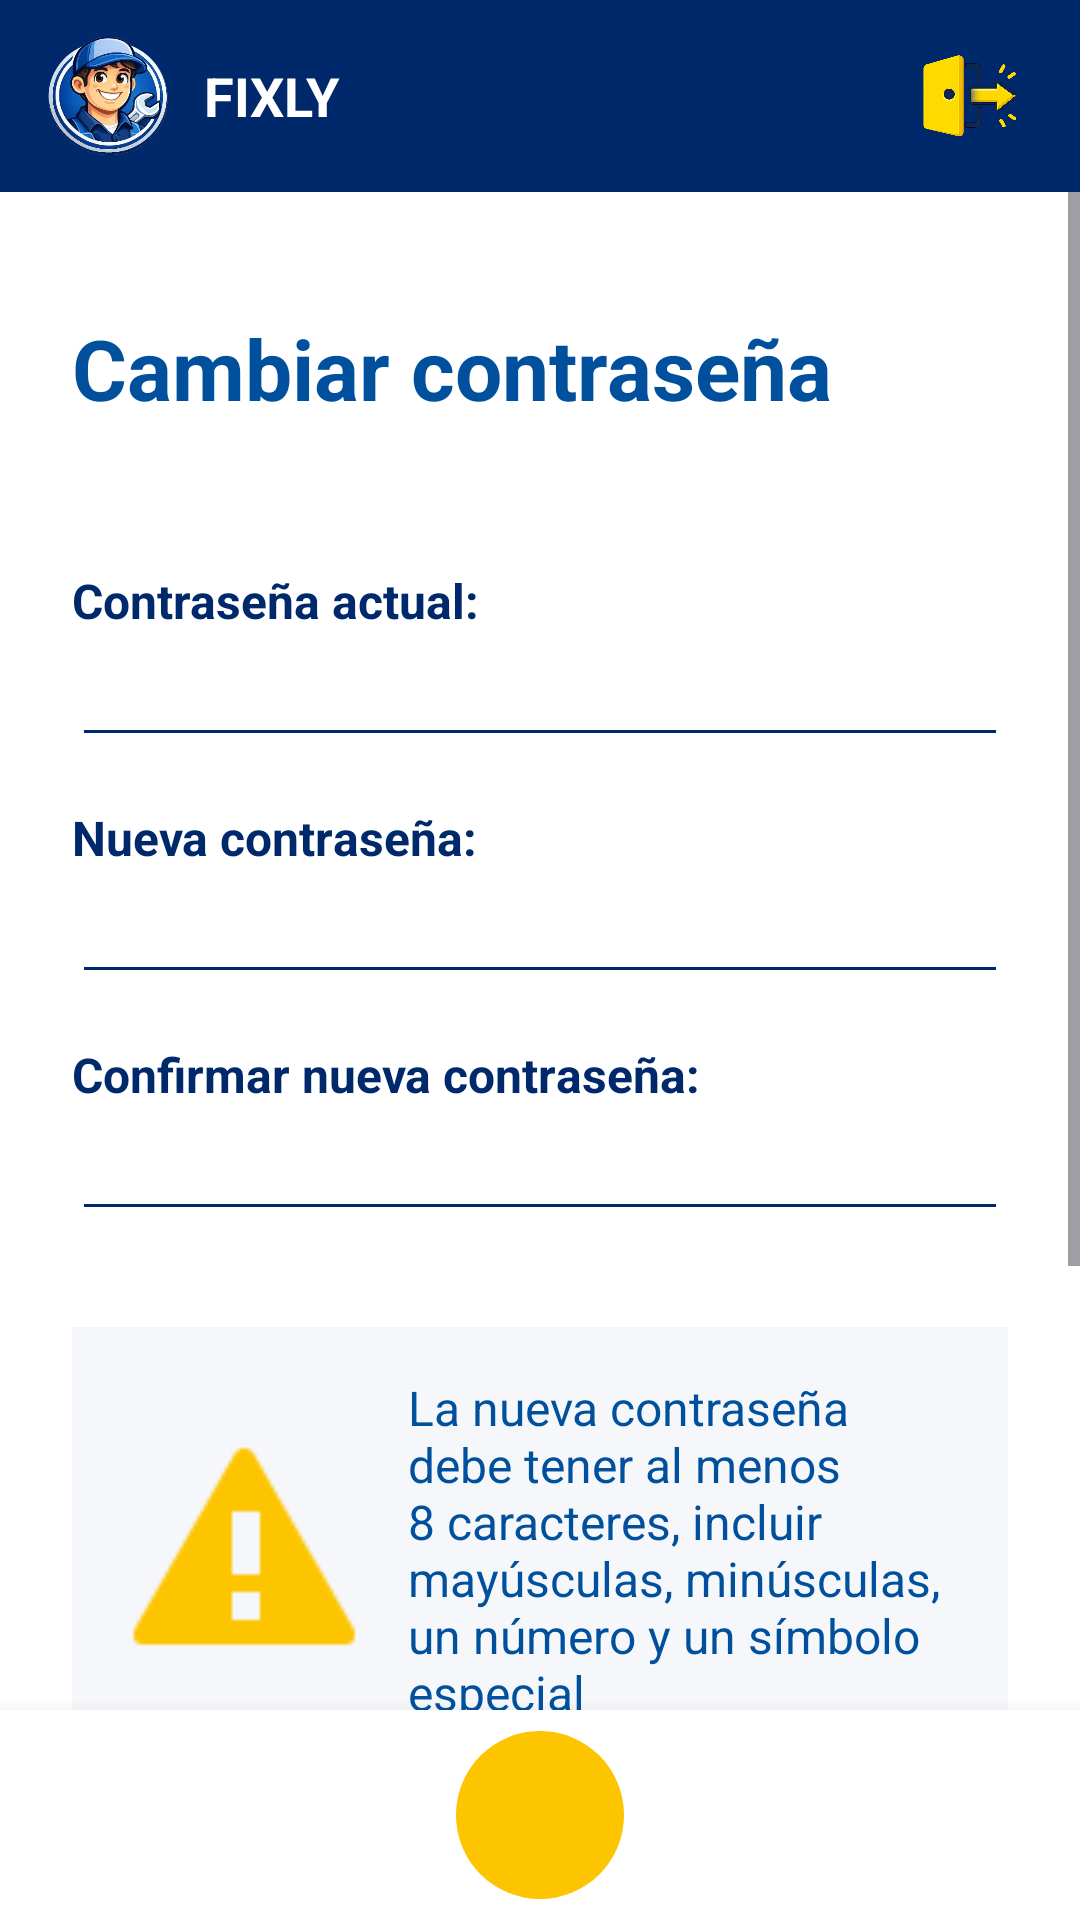

Locate icon controls on the screen. Image size 1080x1920, boxes as (x1, y1, x2, y2).
cerrar sesion: (923, 55, 1018, 136)
warning: (133, 1447, 356, 1646)
